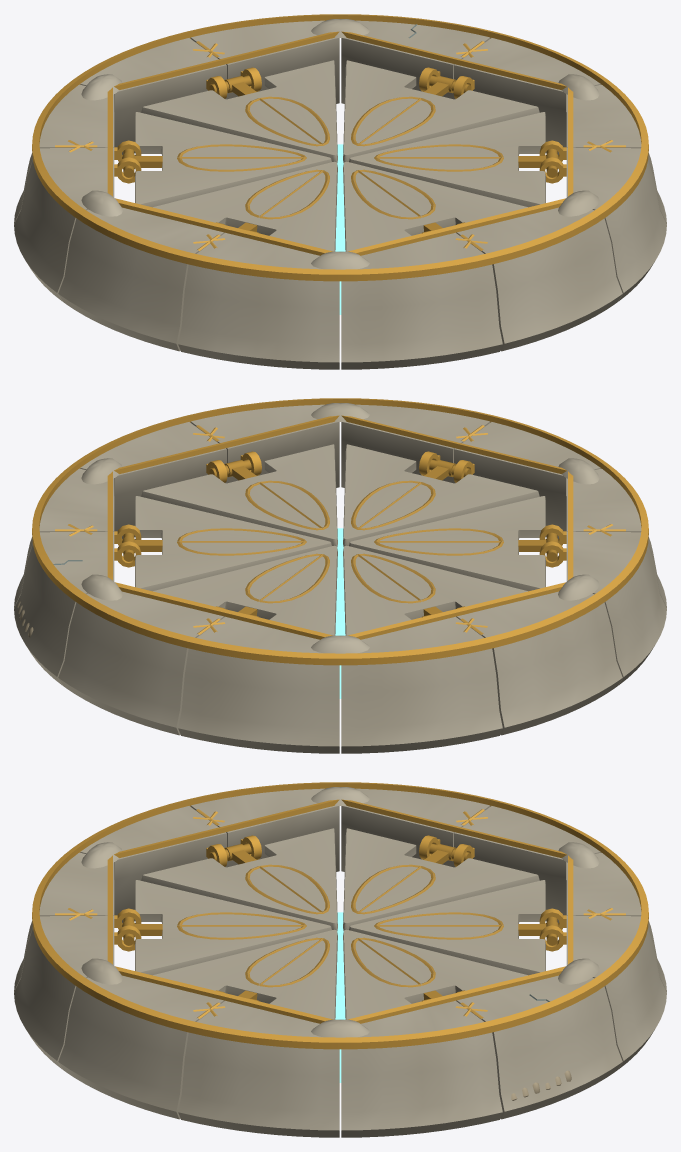
Rendered from portal.glb.
3 renders of one model, top to bottom at view 1: azimuth 30°, elevation 25°; view 2: azimuth 150°, elevation 25°; view 3: azimuth 270°, elevation 25°, orthographic.
Visible parts, largest first — view 1: Aro tallado, Incrustaciones y cojinetes, Pétalo 1, Pétalo 4, Pétalo 2, Pétalo 3, Pétalo 0, Pétalo 5, Luz del paso; view 2: Aro tallado, Incrustaciones y cojinetes, Pétalo 2, Pétalo 5, Pétalo 0, Pétalo 1, Pétalo 3, Pétalo 4, Luz del paso; view 3: Aro tallado, Incrustaciones y cojinetes, Pétalo 0, Pétalo 3, Pétalo 4, Pétalo 5, Pétalo 1, Pétalo 2, Luz del paso.
Boxes of the visible parts, left/top/right/bottom form: Aro tallado: left=14, top=19, right=666, bottom=369; Incrustaciones y cojinetes: left=32, top=14, right=648, bottom=281; Pétalo 1: left=349, top=112, right=558, bottom=207; Pétalo 4: left=122, top=112, right=331, bottom=207; Pétalo 2: left=343, top=60, right=539, bottom=162; Pétalo 3: left=141, top=60, right=337, bottom=162; Pétalo 0: left=343, top=161, right=527, bottom=251; Pétalo 5: left=153, top=161, right=337, bottom=251; Luz del paso: left=335, top=144, right=345, bottom=314; Aro tallado: left=14, top=403, right=666, bottom=753; Incrustaciones y cojinetes: left=32, top=398, right=648, bottom=665; Pétalo 2: left=122, top=496, right=331, bottom=591; Pétalo 5: left=349, top=496, right=558, bottom=591; Pétalo 0: left=343, top=444, right=539, bottom=546; Pétalo 1: left=141, top=444, right=337, bottom=546; Pétalo 3: left=153, top=545, right=337, bottom=635; Pétalo 4: left=343, top=545, right=527, bottom=635; Luz del paso: left=335, top=528, right=345, bottom=698; Aro tallado: left=14, top=787, right=666, bottom=1137; Incrustaciones y cojinetes: left=32, top=782, right=648, bottom=1049; Pétalo 0: left=122, top=880, right=331, bottom=975; Pétalo 3: left=349, top=880, right=558, bottom=975; Pétalo 4: left=343, top=828, right=539, bottom=930; Pétalo 5: left=141, top=828, right=337, bottom=930; Pétalo 1: left=153, top=929, right=337, bottom=1019; Pétalo 2: left=343, top=929, right=527, bottom=1019; Luz del paso: left=335, top=912, right=345, bottom=1082.
Bounding box in the file's own units: 10.8 × 1.77 × 10.8.
